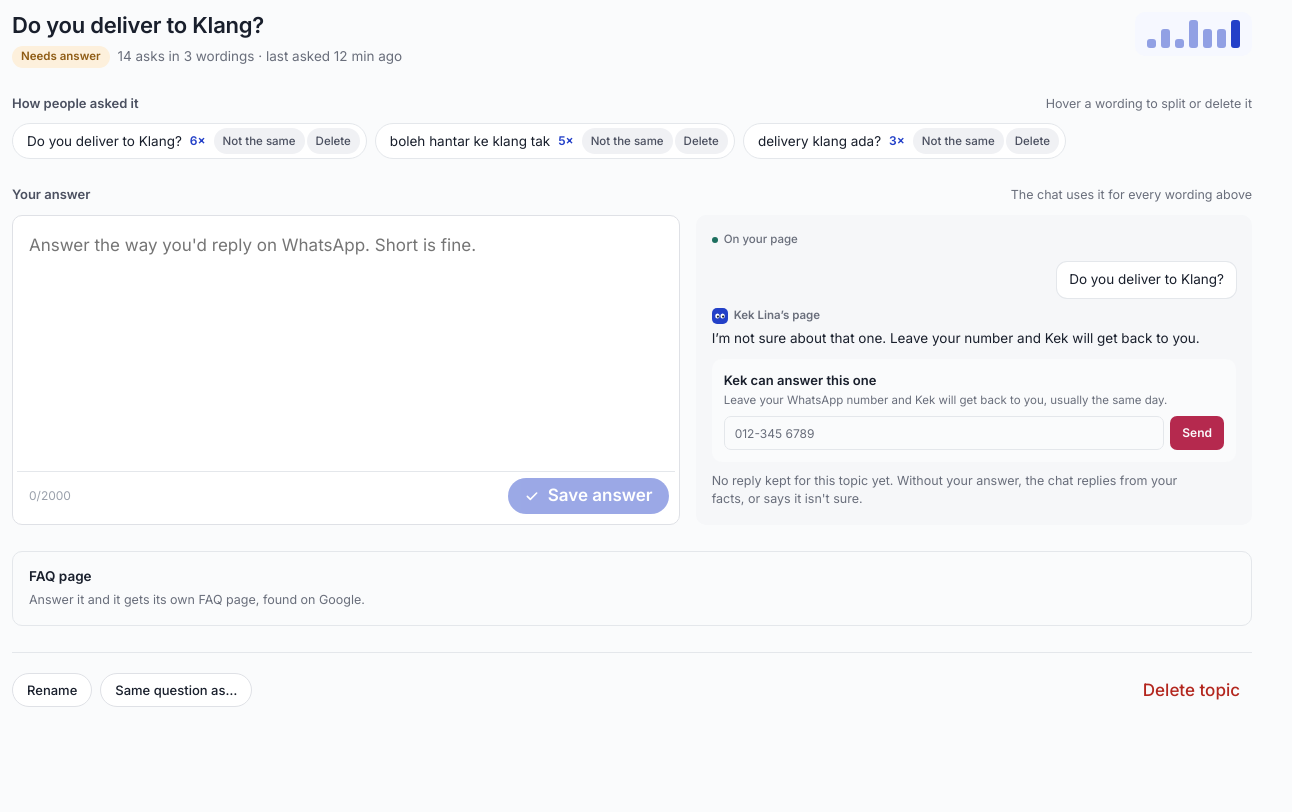
Test case: TopicDetail, the answer › keeps the draft and shows the error when saving fails
Type "Yes." into the text box named "Your answer". click: (346,345)
box: [17, 220, 675, 471]
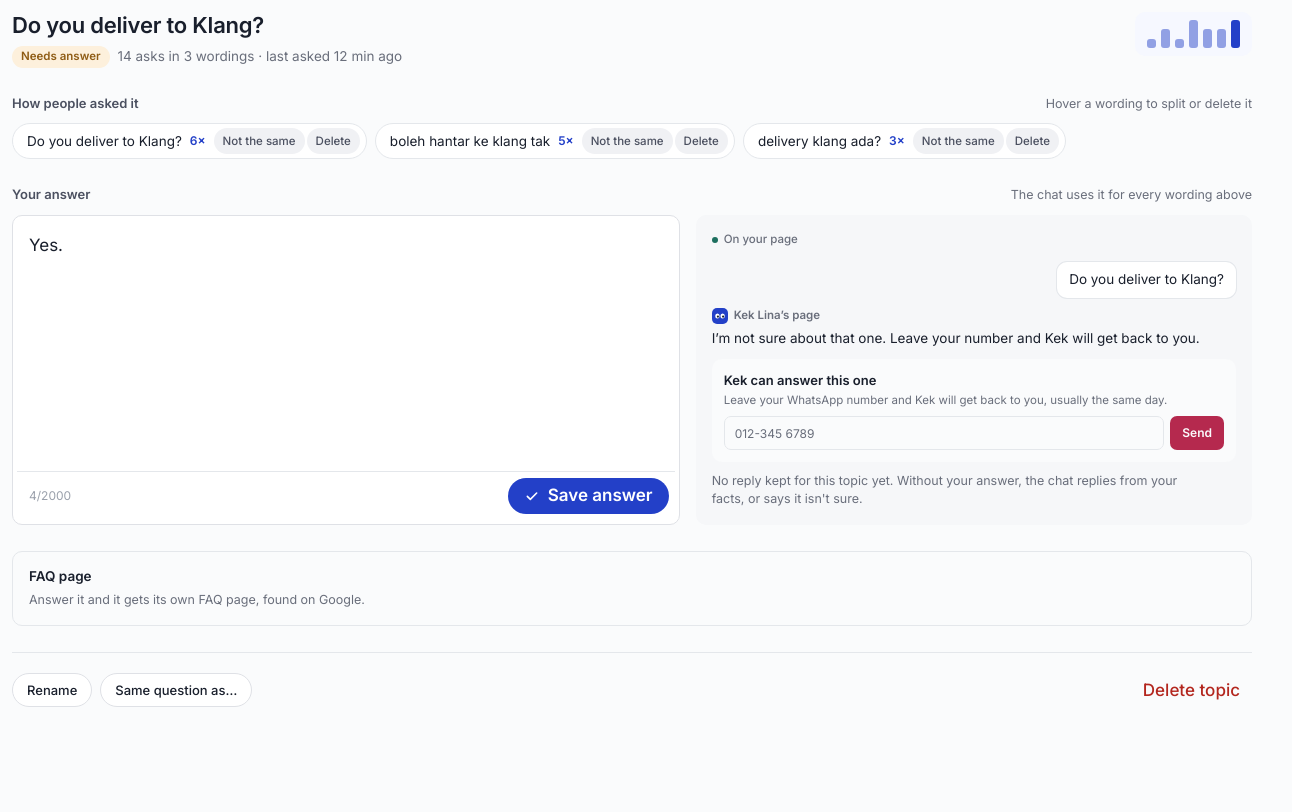
Click the button "Save answer". click: (588,496)
box: [508, 478, 669, 514]
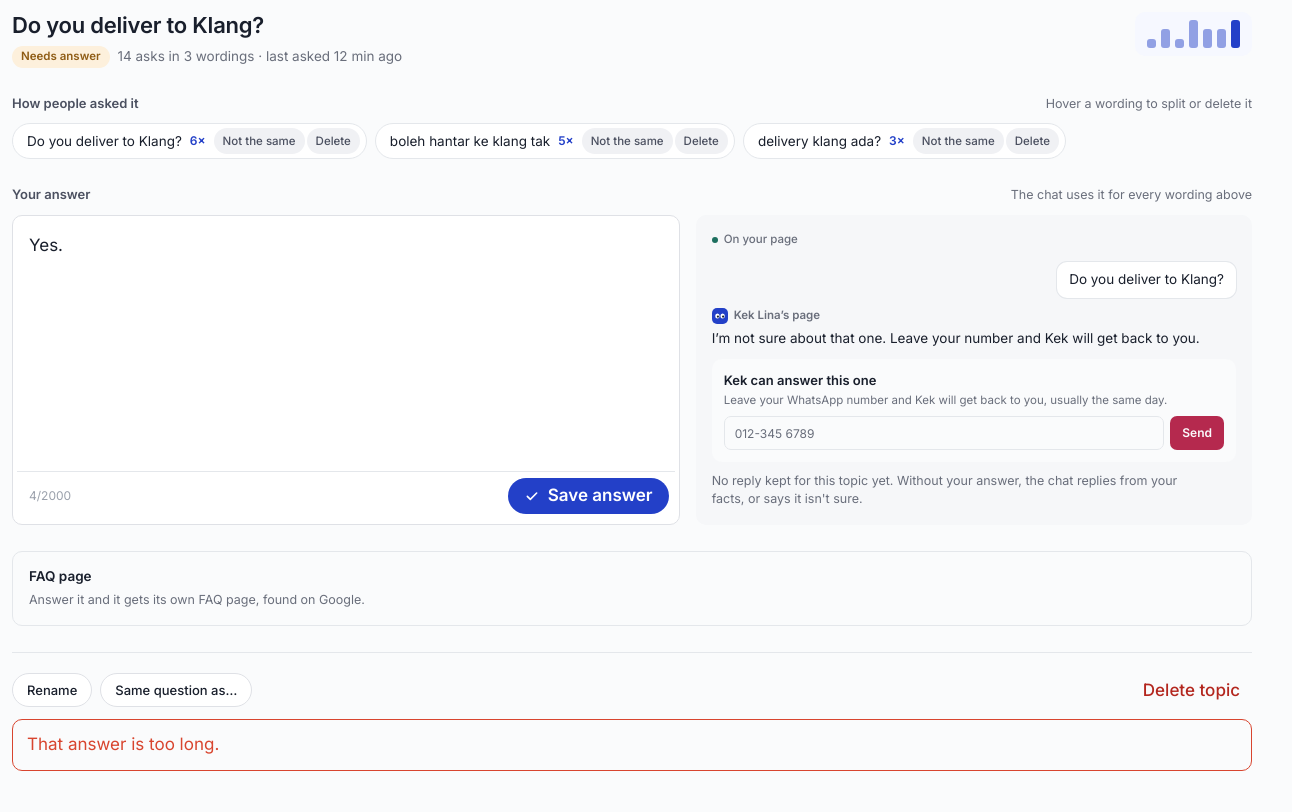
expect the message reads "That answer is too long.": met, box [27, 734, 219, 754]
